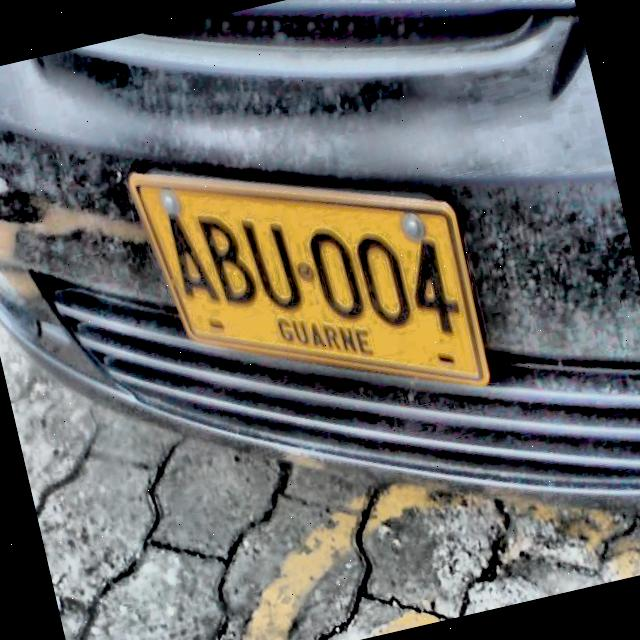plate: (128, 173, 491, 387)
